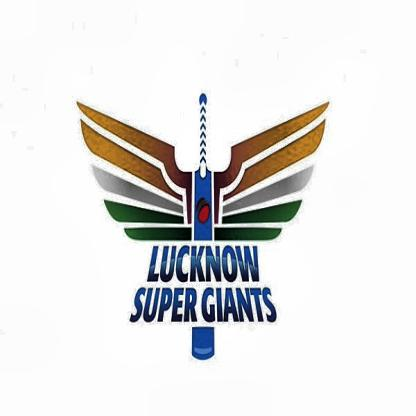Lucknow Super Giants: (71, 90, 333, 366)
